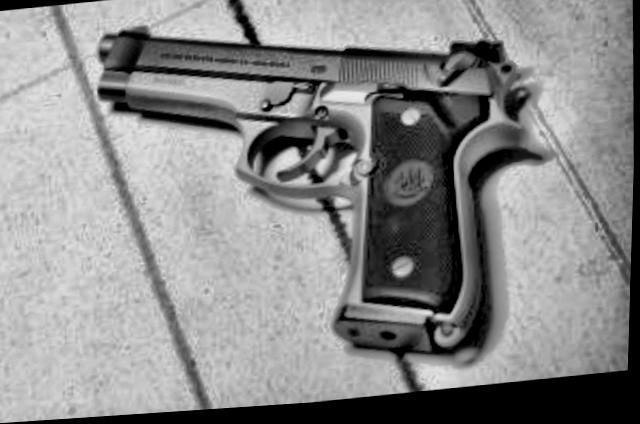pistol: (87, 0, 550, 401)
